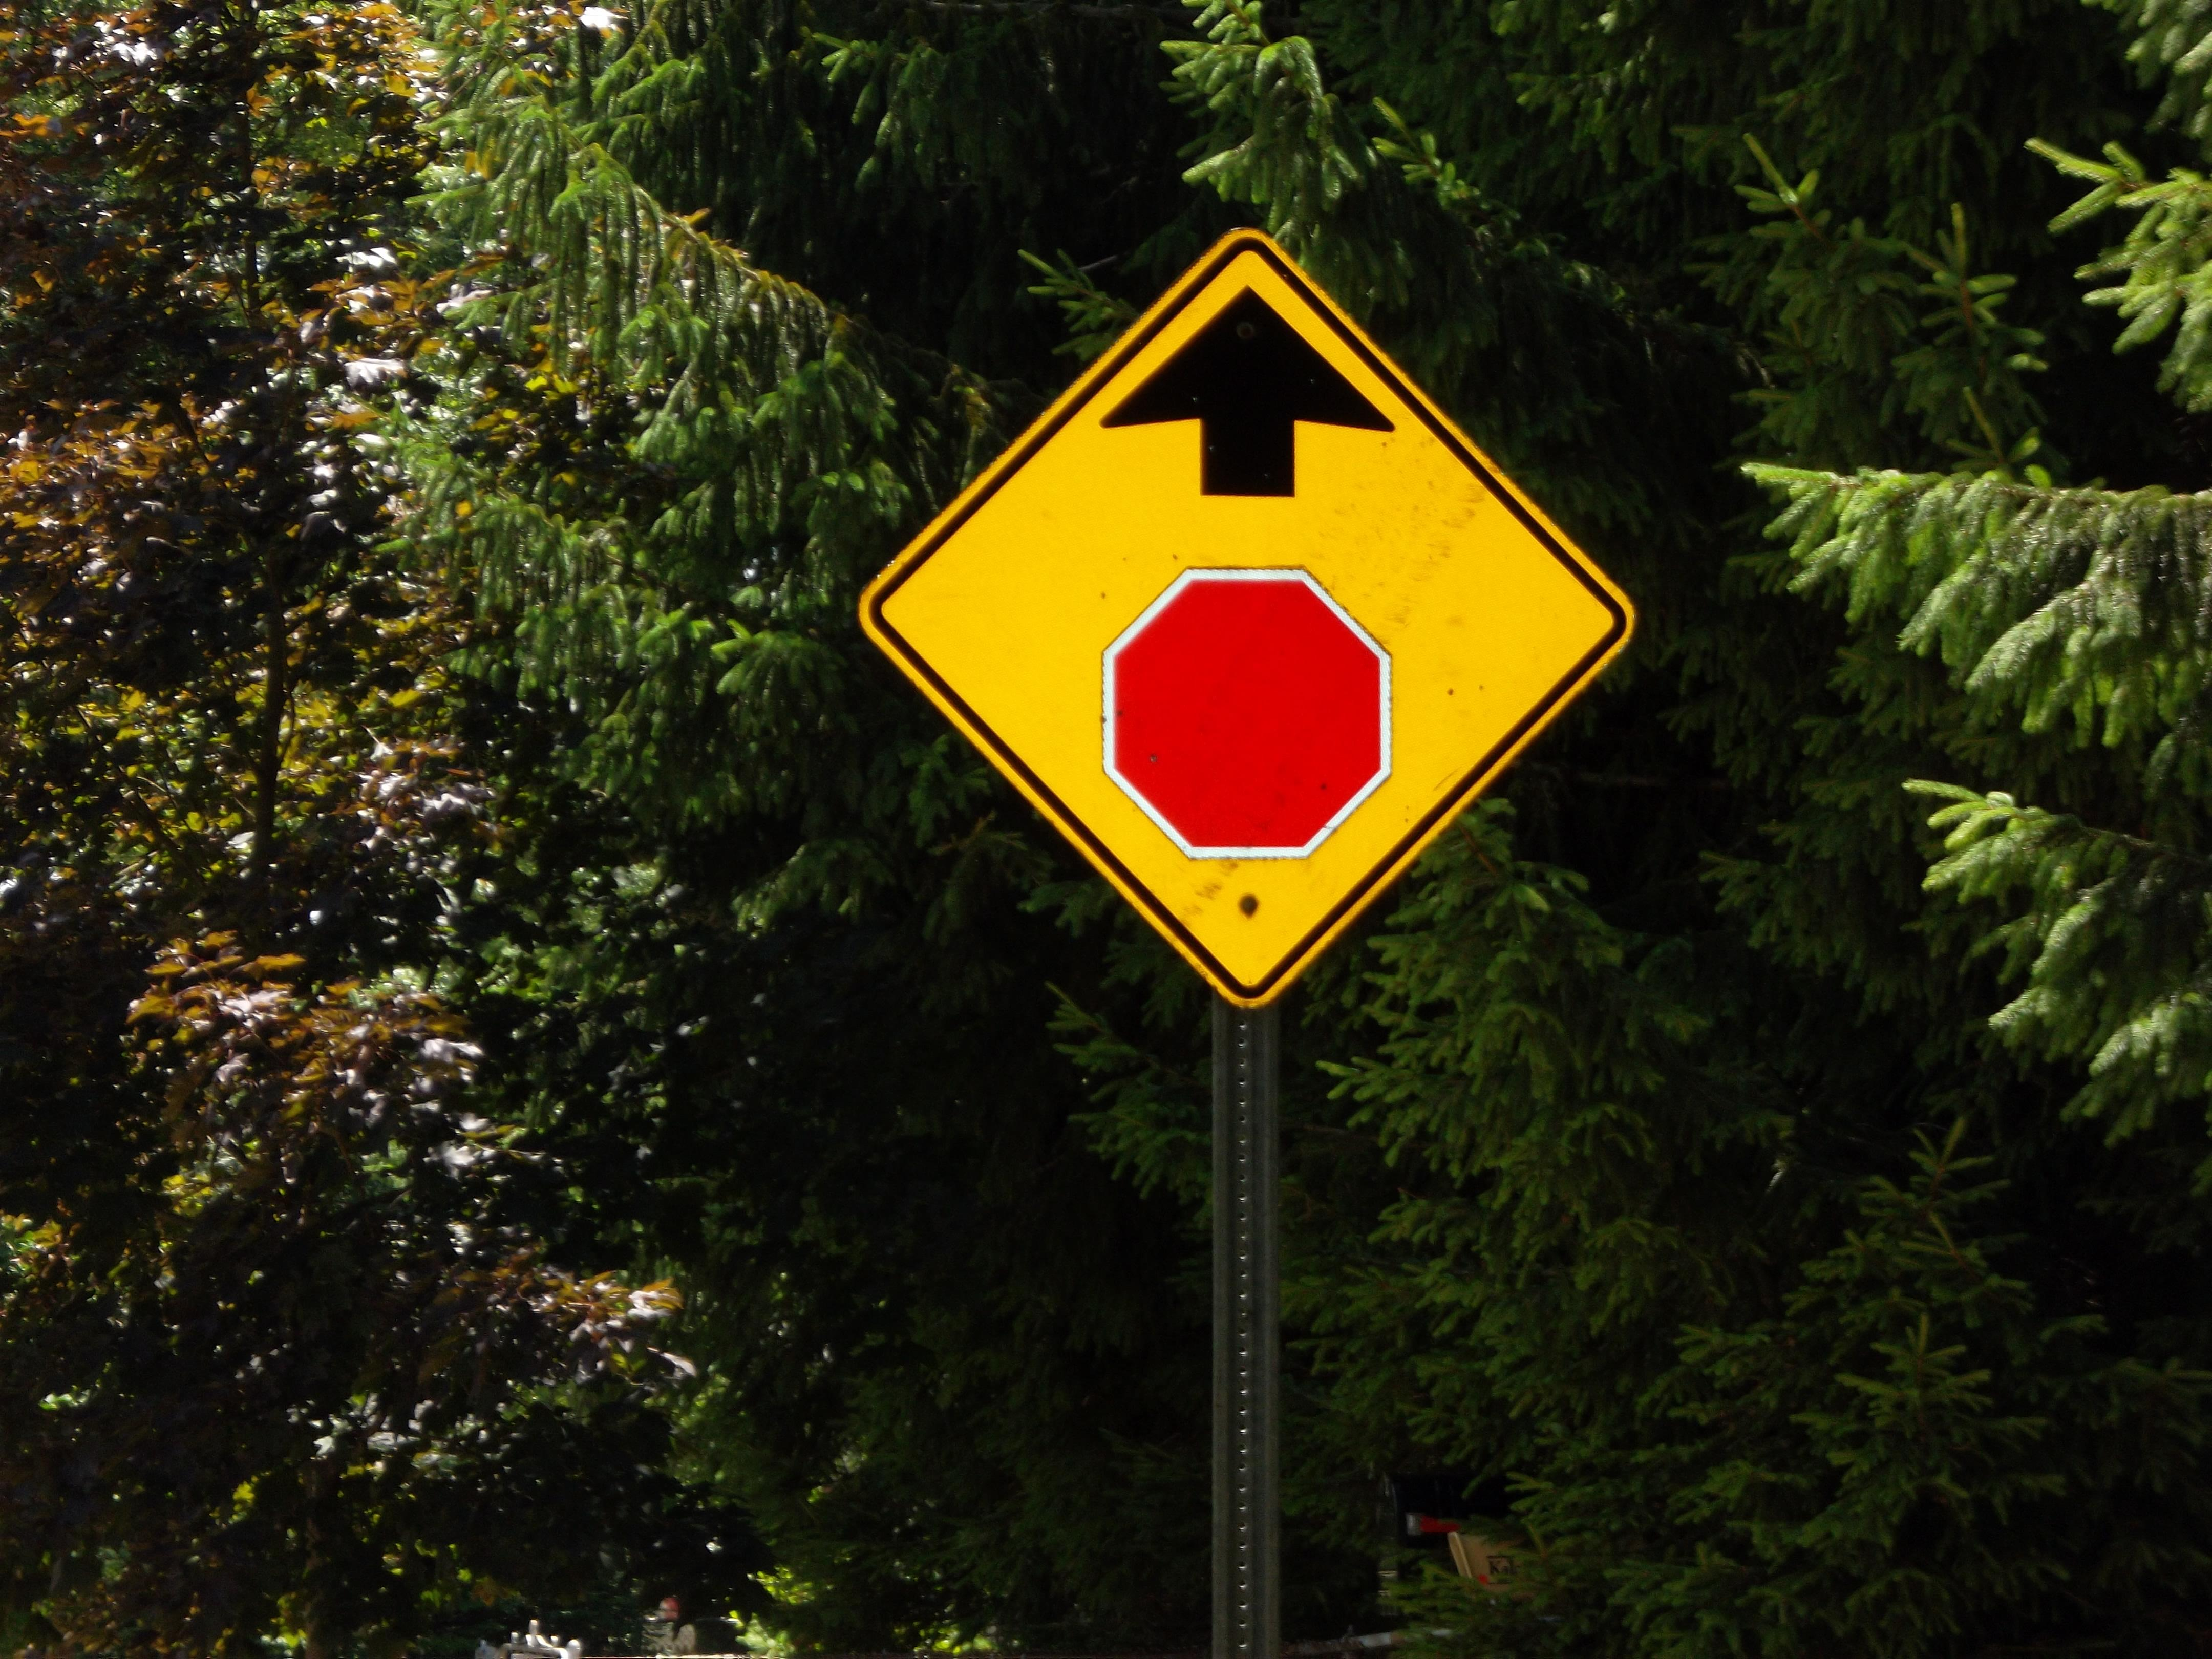stop: (1080, 554, 1420, 871)
warning: (855, 221, 1632, 1019)
